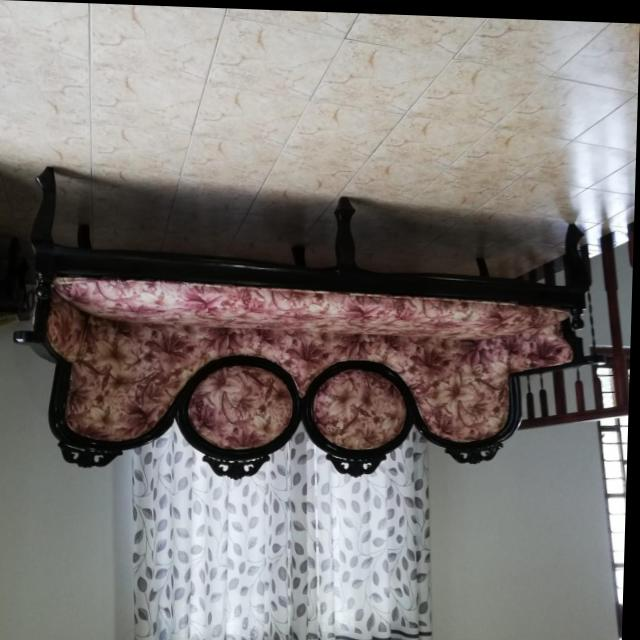Sofa: (13, 168, 608, 487)
